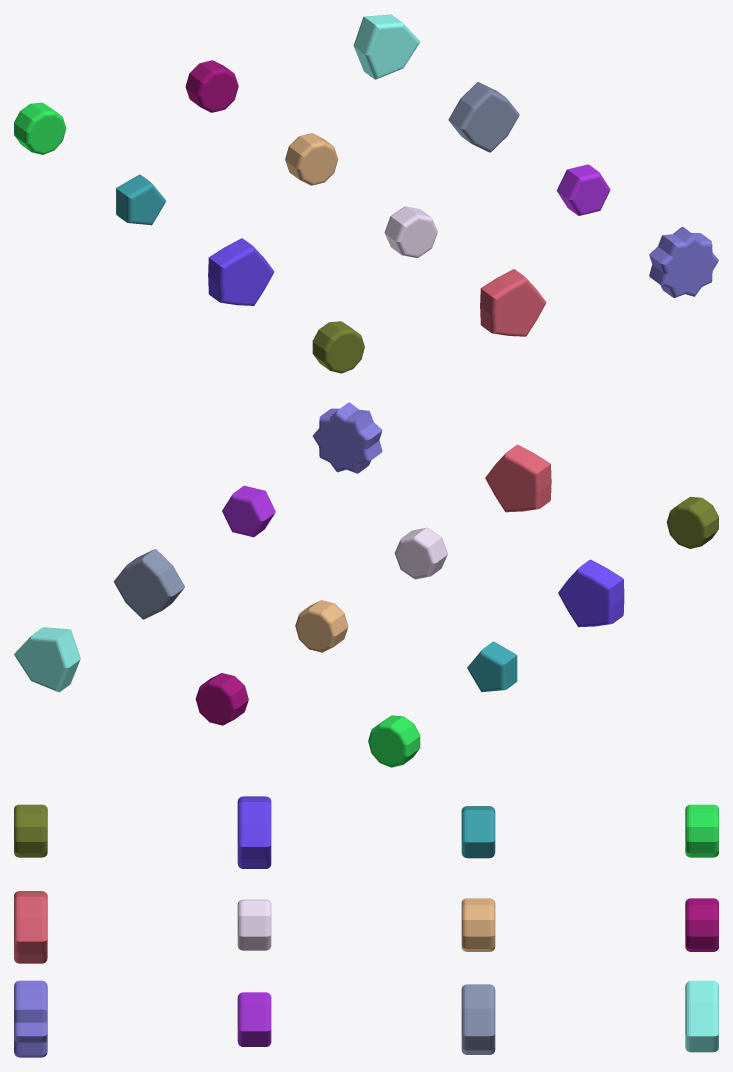
The model's file is Phong Bump Mapped_Linear_2023-07-23-20-47-44.gltf.
The picture shows the model from 3 angles, top to bottom: view 1: azimuth 30°, elevation 25°; view 2: azimuth 150°, elevation 25°; view 3: azimuth 270°, elevation 25°; orthographic projection. The views are drawn at different scales.
Bounding box in the file's own units: 464 × 69.74 × 630.
